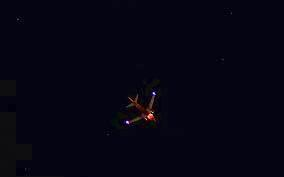Plane: (122, 89, 162, 132)
